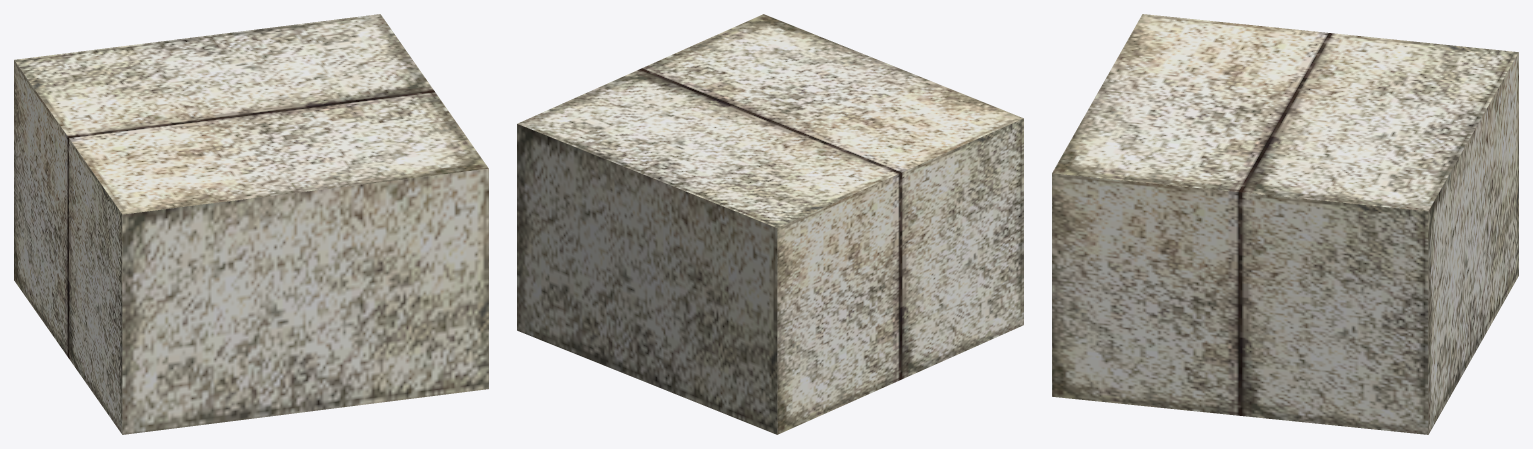
Rendered from stone_8.glb.
3 renders of one model, left to right at view 1: azimuth 30°, elevation 25°; view 2: azimuth 150°, elevation 25°; view 3: azimuth 270°, elevation 25°, orthographic. The views are drawn at different scales.
Parts seen in each view (by area): view 1: stone_8.001; view 2: stone_8.001; view 3: stone_8.001.
Part boxes in pixels (bbox=[...]): stone_8.001: bbox=[14, 14, 488, 434]; stone_8.001: bbox=[517, 14, 1023, 434]; stone_8.001: bbox=[1052, 14, 1518, 434].
Size of the model in its own units: 70.61 by 37.26 by 70.55.
Materials: 1 (1 with a texture image).
